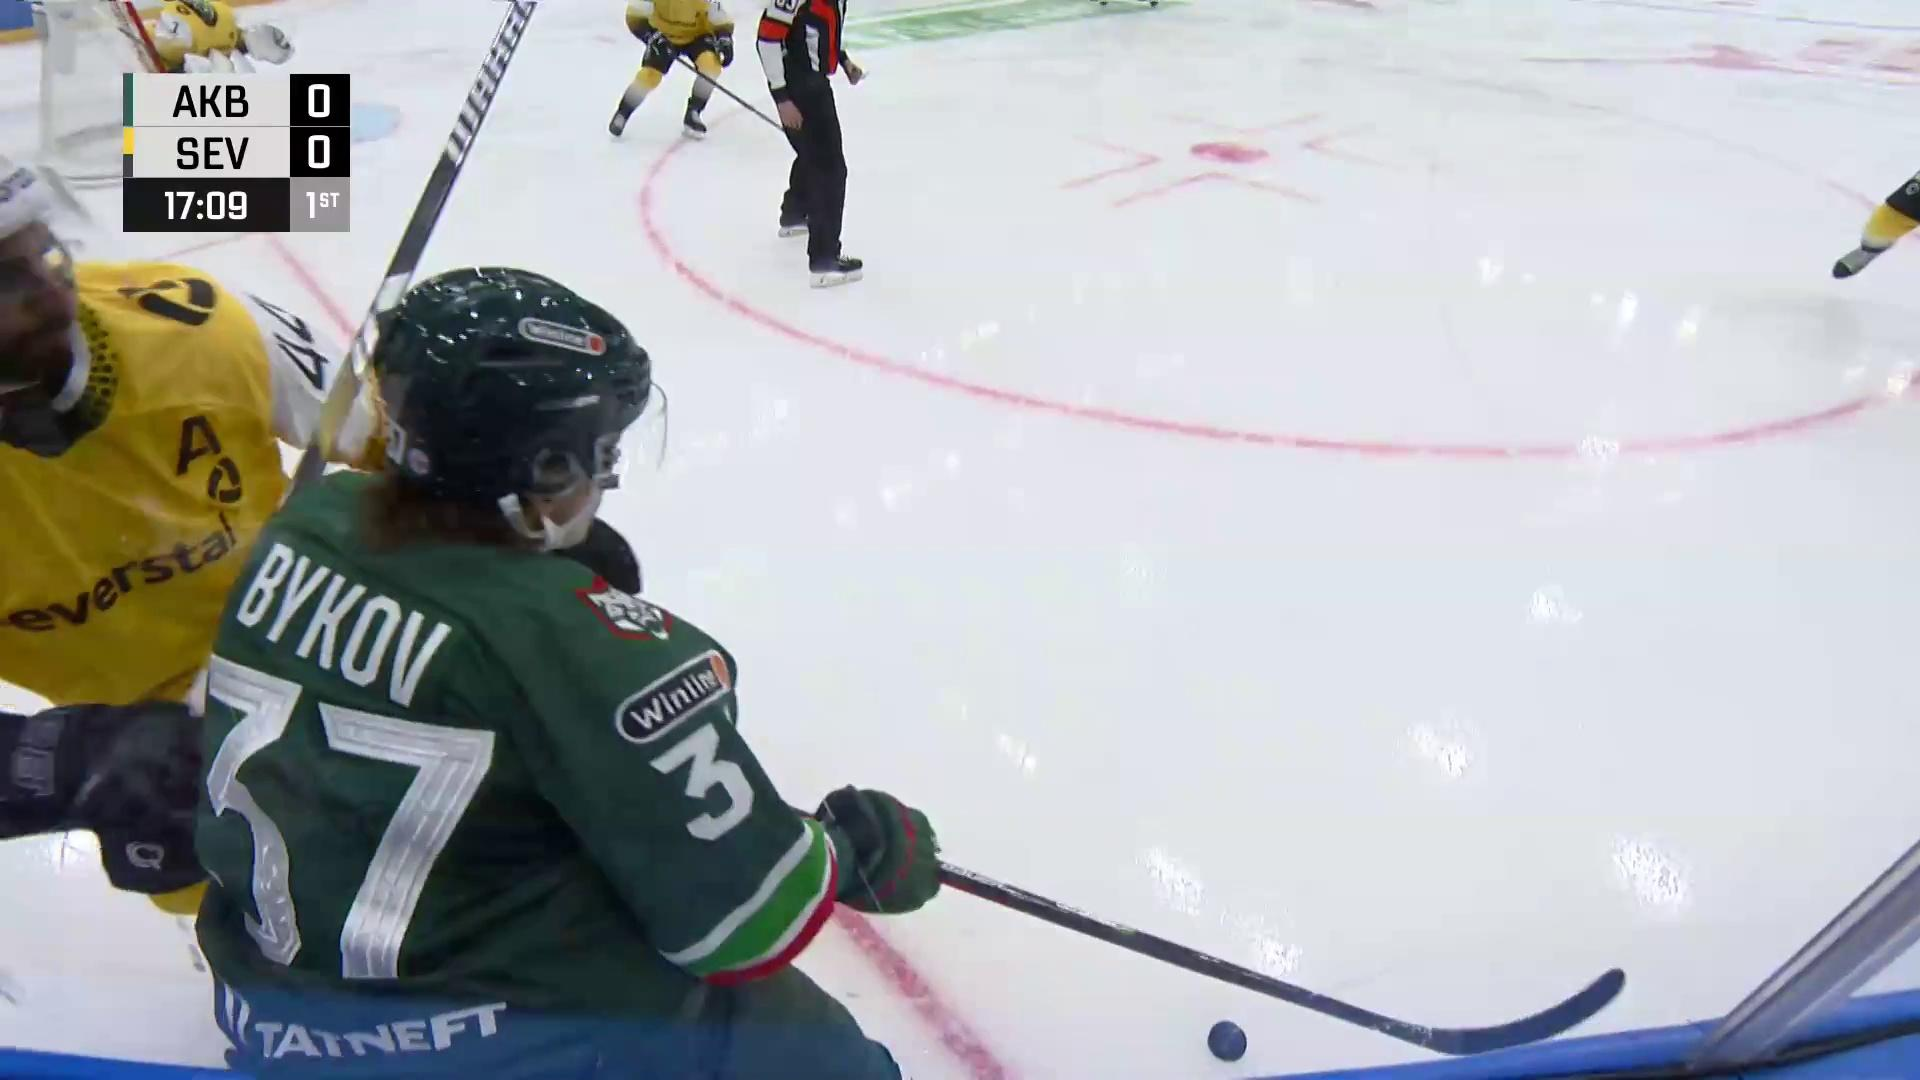ball: (1200, 1014, 1257, 1068)
